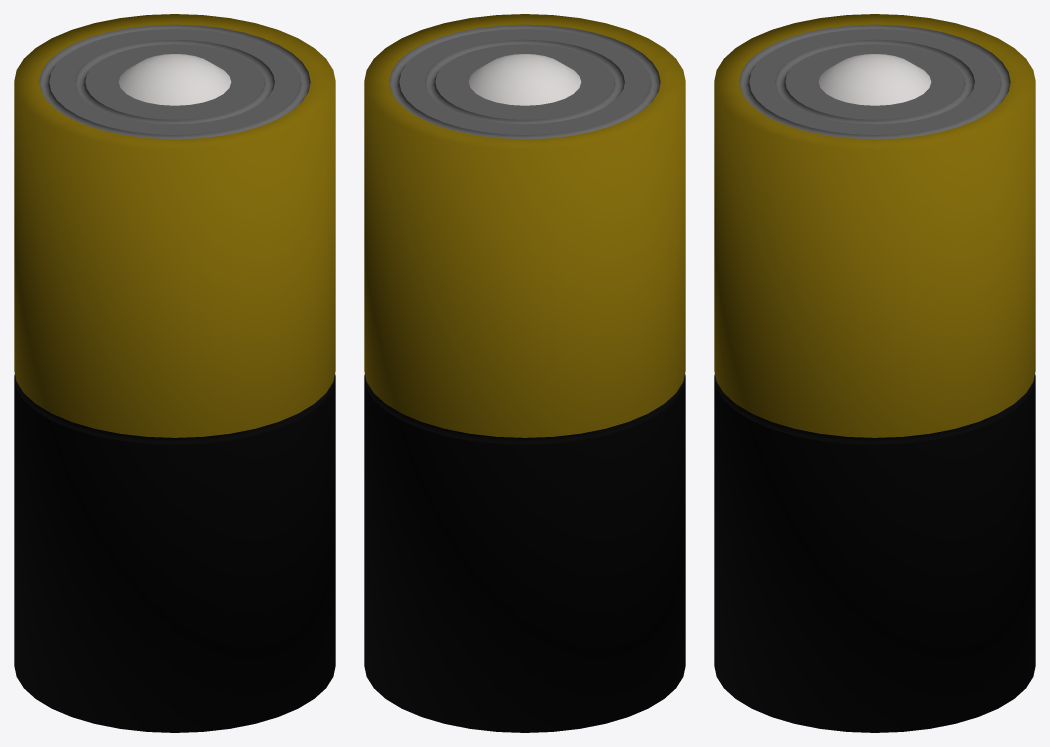
The model's file is battery_AloneGeo.fbx.
3 views of the same model, side by side, from view 1: azimuth 30°, elevation 25°; view 2: azimuth 150°, elevation 25°; view 3: azimuth 270°, elevation 25° (orthographic).
Parts seen in each view (by area): view 1: BATTERY1; view 2: BATTERY1; view 3: BATTERY1.
Boxes of the visible parts, x1,y1,x2,y2 form: BATTERY1: (14,14,335,732); BATTERY1: (364,14,685,732); BATTERY1: (714,14,1035,732).
Bounding box in the file's own units: 6.37 × 13.2 × 6.37.
